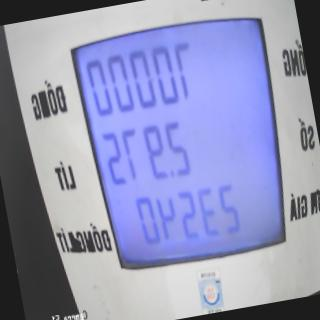screen: (61, 0, 306, 286)
